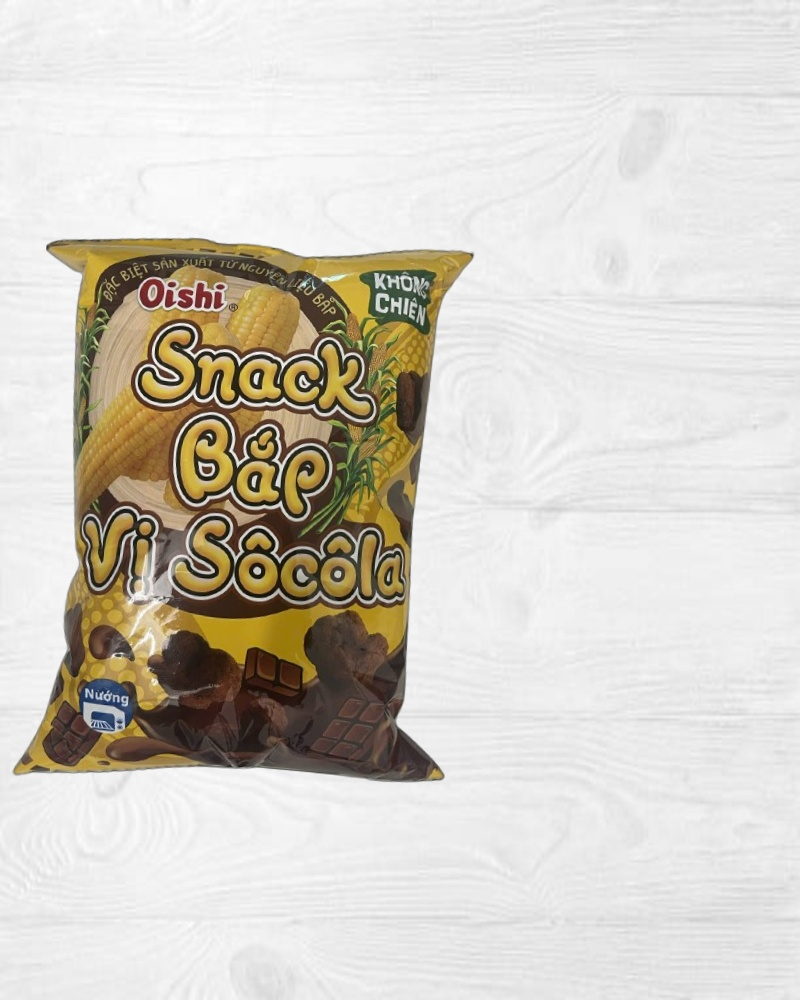Snack socola: (4, 220, 490, 801)
